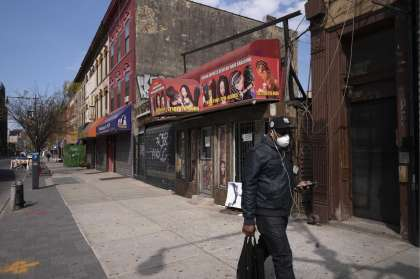with_mask: (270, 120, 295, 147)
